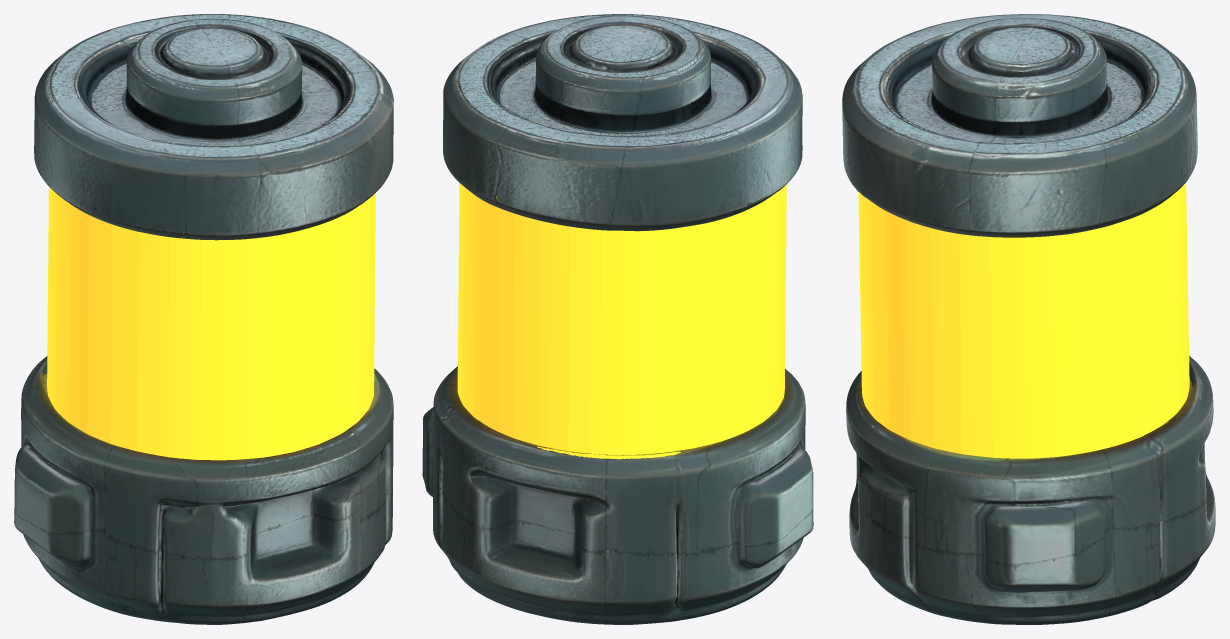
Rendered from burst core.fbx.
3 views of the same model, side by side, from view 1: azimuth 30°, elevation 25°; view 2: azimuth 150°, elevation 25°; view 3: azimuth 270°, elevation 25° (orthographic).
Parts seen in each view (by area): view 1: tripo_node_ab501a6c-e491-4d4a-aedf-384a27564dcc, Cylinder; view 2: tripo_node_ab501a6c-e491-4d4a-aedf-384a27564dcc, Cylinder; view 3: tripo_node_ab501a6c-e491-4d4a-aedf-384a27564dcc, Cylinder.
Part boxes in pixels (x1,y1,x2,y2): tripo_node_ab501a6c-e491-4d4a-aedf-384a27564dcc: [14, 14, 393, 624]; Cylinder: [47, 116, 375, 460]; tripo_node_ab501a6c-e491-4d4a-aedf-384a27564dcc: [422, 14, 813, 624]; Cylinder: [457, 183, 786, 459]; tripo_node_ab501a6c-e491-4d4a-aedf-384a27564dcc: [842, 14, 1215, 624]; Cylinder: [858, 183, 1189, 458].
Size of the model in its own units: 63.88 by 94.98 by 58.56.
Materials: 2 (1 with a texture image).
